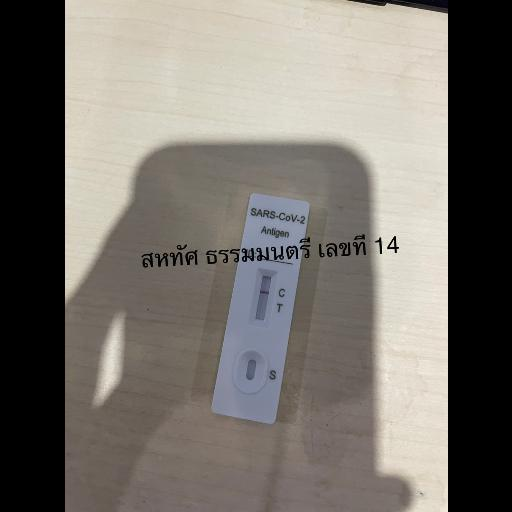Neg: (209, 191, 310, 424)
